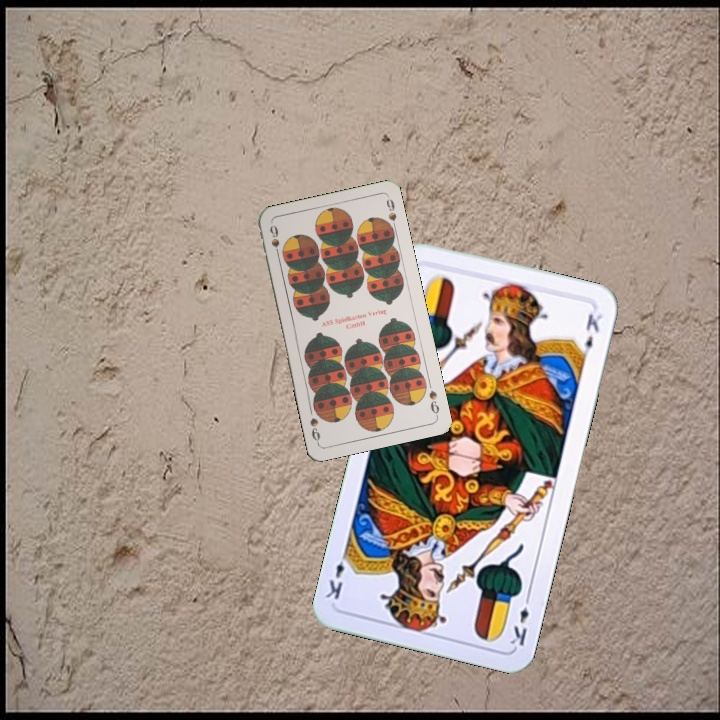EK: (506, 590, 533, 649)
S9: (266, 221, 282, 261), (425, 386, 442, 419)
